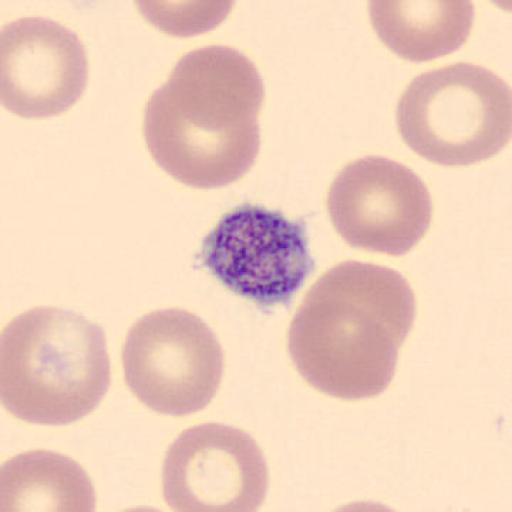Platelet: (194, 200, 318, 310)
RBC: (286, 258, 418, 402), (1, 304, 114, 428), (141, 80, 263, 191), (394, 59, 512, 169), (286, 286, 398, 401), (119, 305, 227, 420), (324, 152, 435, 258), (301, 257, 419, 354), (160, 419, 270, 512), (1, 14, 90, 121), (166, 42, 266, 134), (366, 0, 477, 65), (1, 445, 98, 512), (131, 0, 239, 39), (310, 496, 422, 512), (99, 503, 189, 512), (480, 0, 512, 14)
